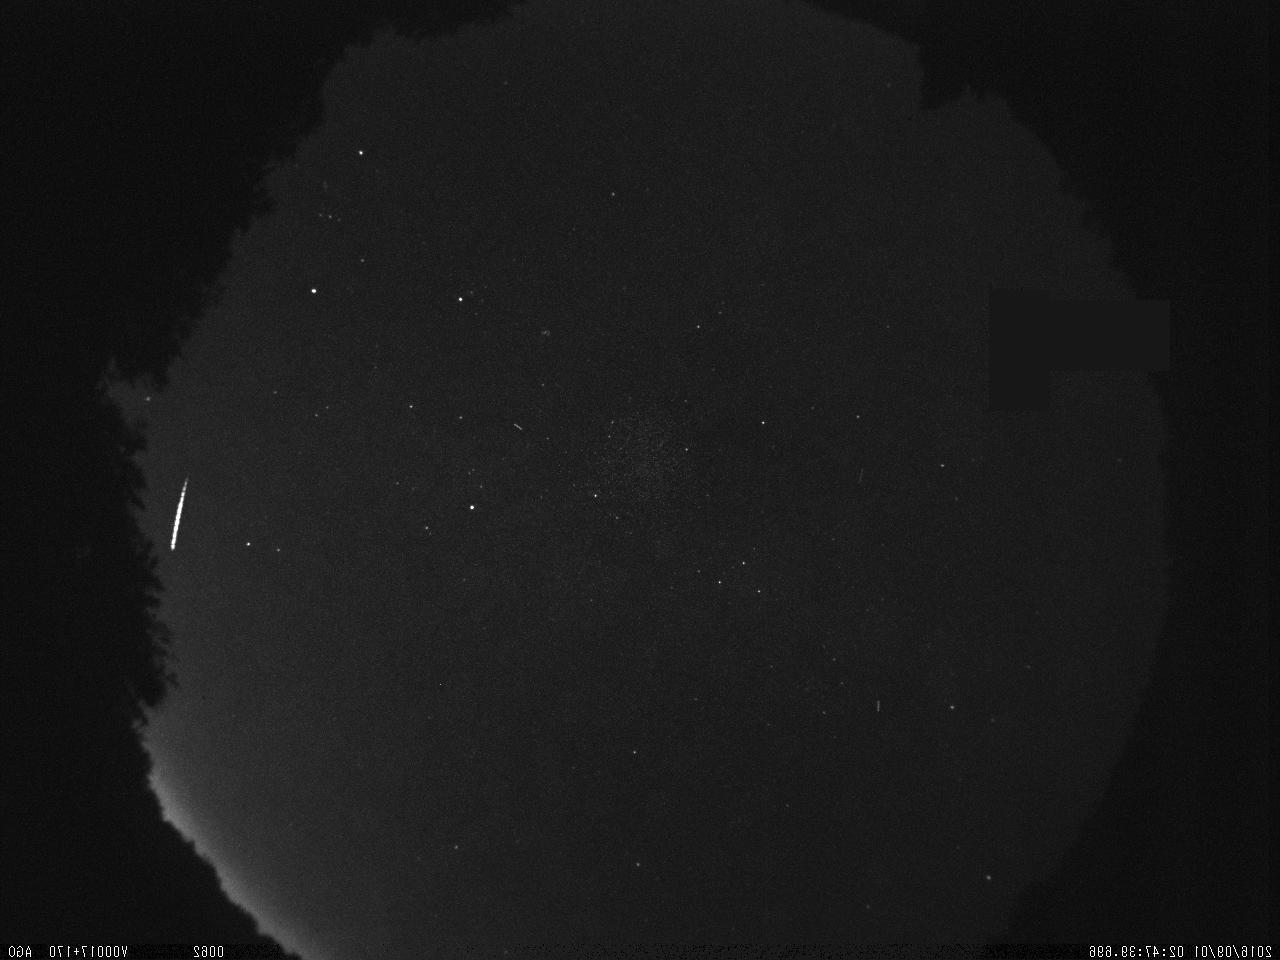meteor: (157, 464, 207, 564)
